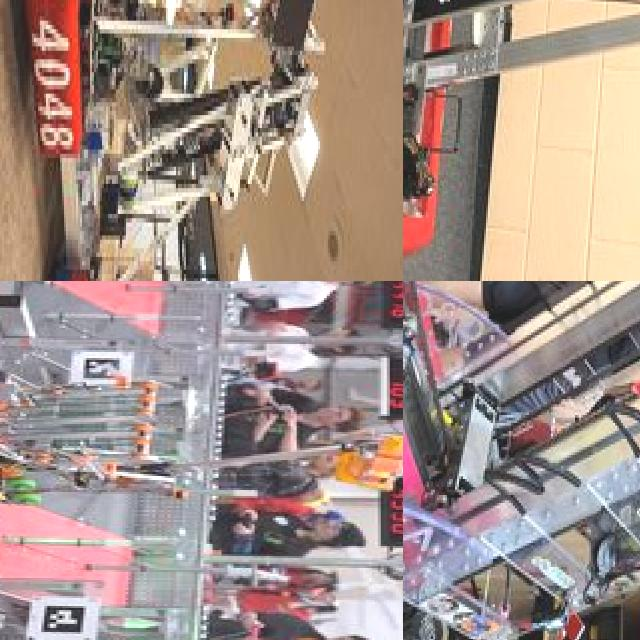FRC-Robots: (0, 0, 356, 281), (403, 281, 640, 640), (403, 0, 640, 268), (0, 320, 204, 547)
